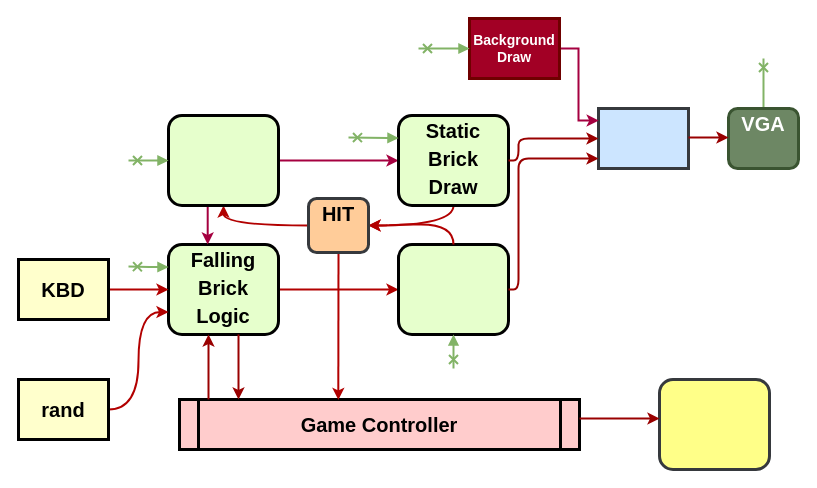
This 817x488 diagram has some shape labels left out. Here are the shapes that lost their labels. From the top down, the centre of each, then its label:
At pixel 643 138: "MUX".
At pixel 223 160: "Static Brick Logic".
At pixel 453 289: "Falling Brick Draw".
At pixel 714 424: "Sounds".
